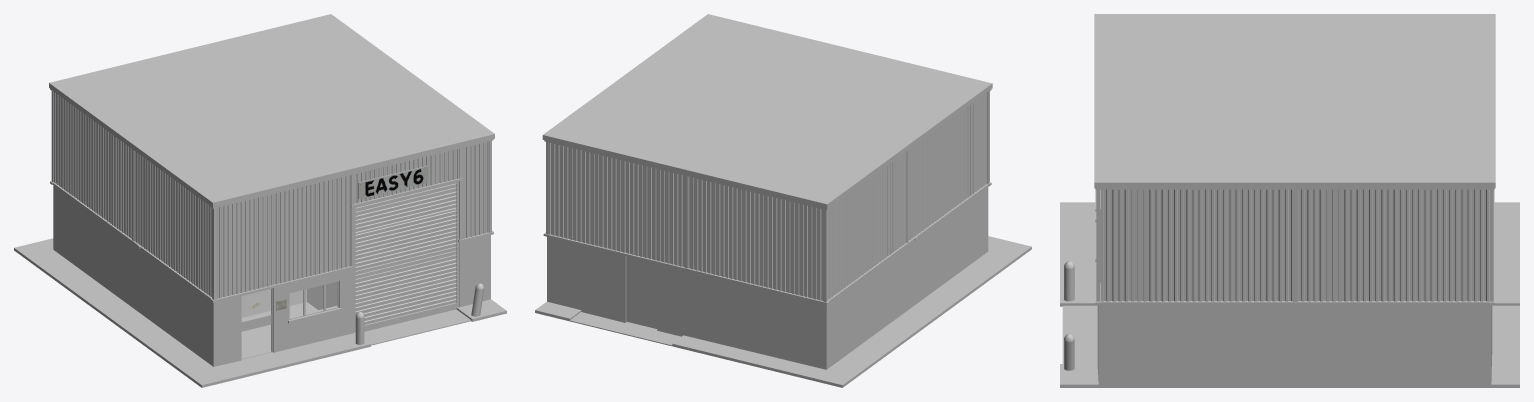
3 renders of one model, left to right at view 1: azimuth 30°, elevation 25°; view 2: azimuth 150°, elevation 25°; view 3: azimuth 270°, elevation 25°, orthographic. The views are drawn at different scales.
Parts seen in each view (by area): view 1: TheFactory; view 2: TheFactory; view 3: TheFactory.
Part boxes in pixels (x1,y1,x2,y2): TheFactory: (14, 14, 506, 387); TheFactory: (535, 14, 1031, 387); TheFactory: (1060, 14, 1519, 387).
Bounding box in the file's own units: 428 × 225 × 453.
